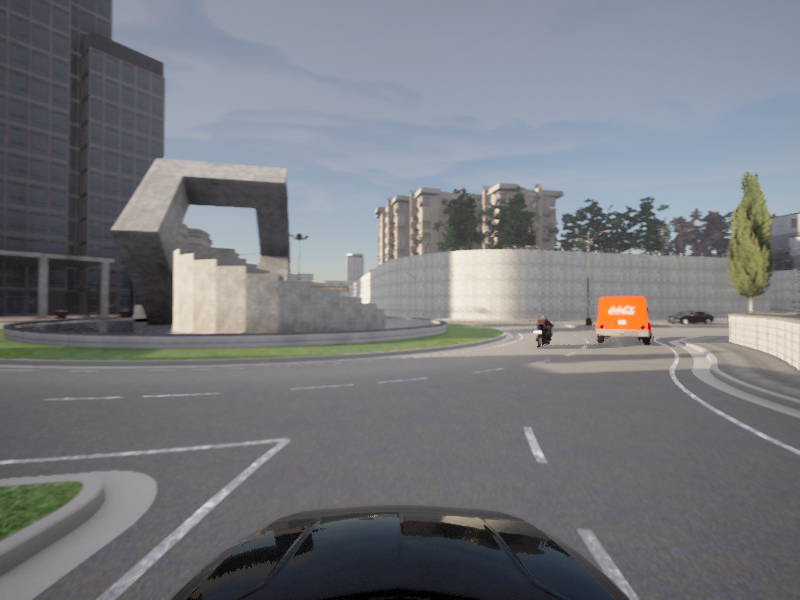vehicle: (592, 295, 653, 345), (527, 314, 558, 349)
